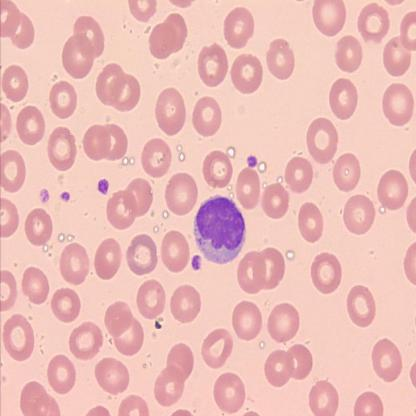Lymphocyte: (193, 195, 247, 265)
